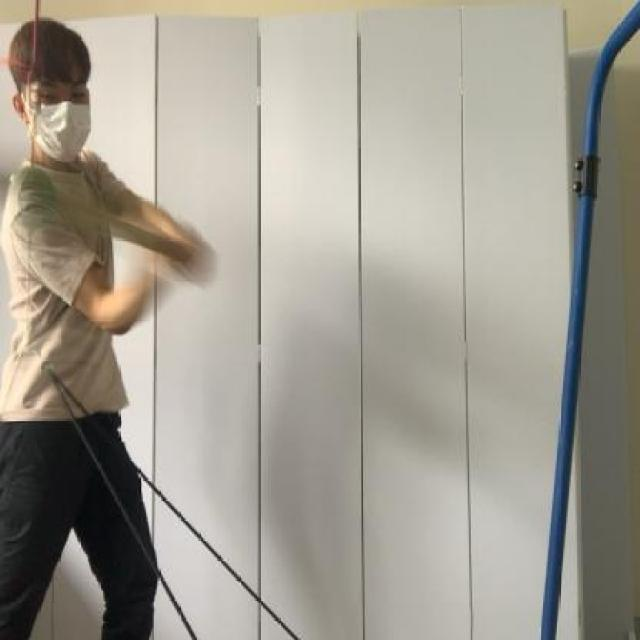baseball: (0, 140, 128, 234)
